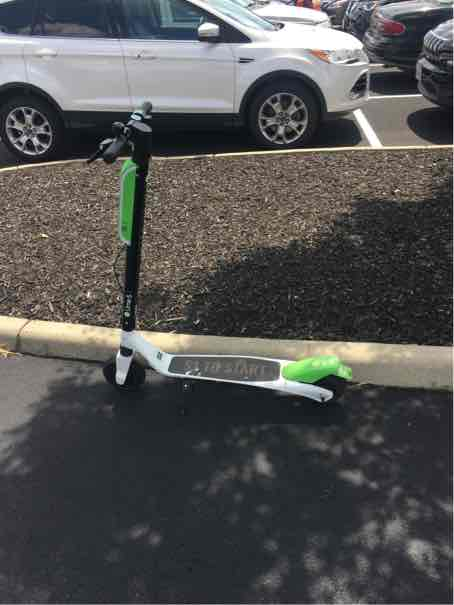scooter: (82, 93, 357, 408)
